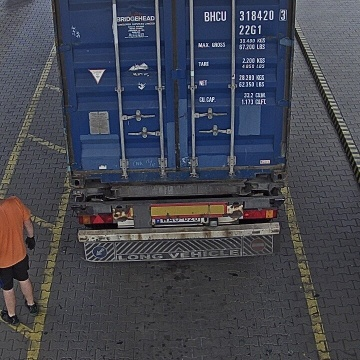serial_id: (204, 9, 287, 21)
